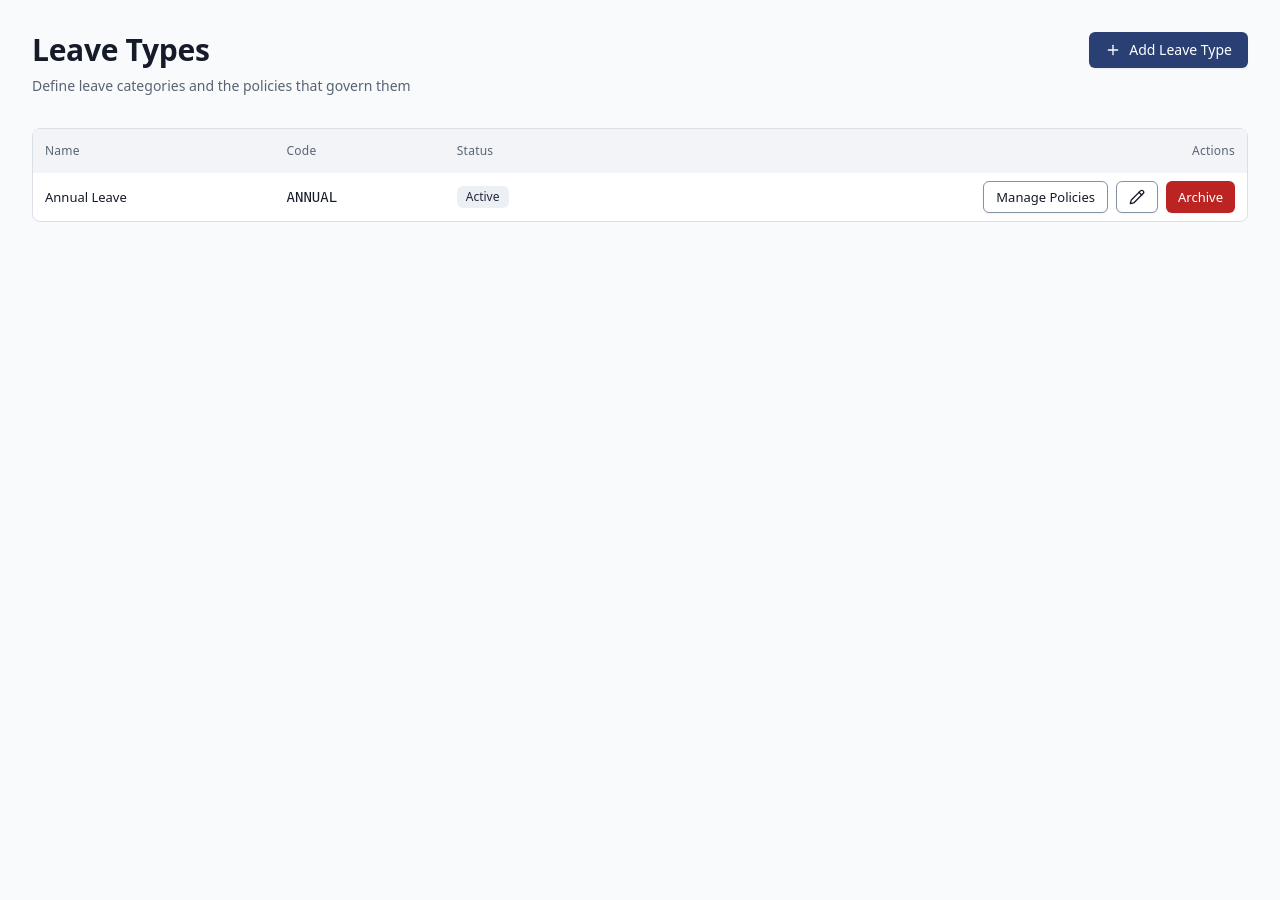
Leave Types page — status confirmations › clicking Archive opens a confirmation naming the leave type and archives nothing yet
Click the button with test id "button-toggle-leave-type-status-1".
click(1200, 197)  # box [1166,181,1235,213]
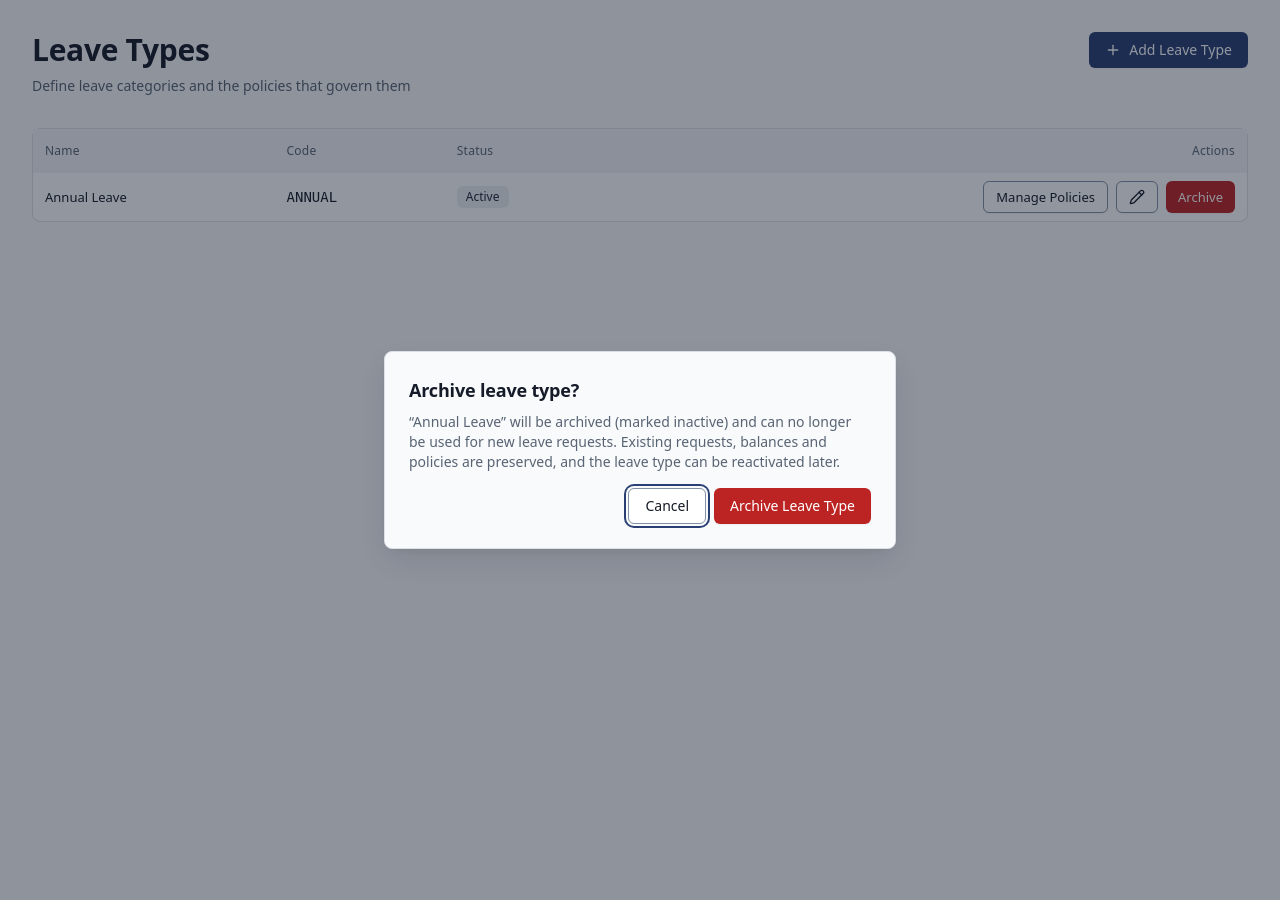
expect the dialog with test id "dialog-leave-type-status" shows "Archive leave type?": met, box [409,378,579,402]
expect the dialog with test id "dialog-leave-type-status" shows "“Annual Leave”": met, box [384,351,896,549]
expect the button with test id "dialog-leave-type-status-confirm" reads "Archive Leave Type": met, box [714,488,871,524]
